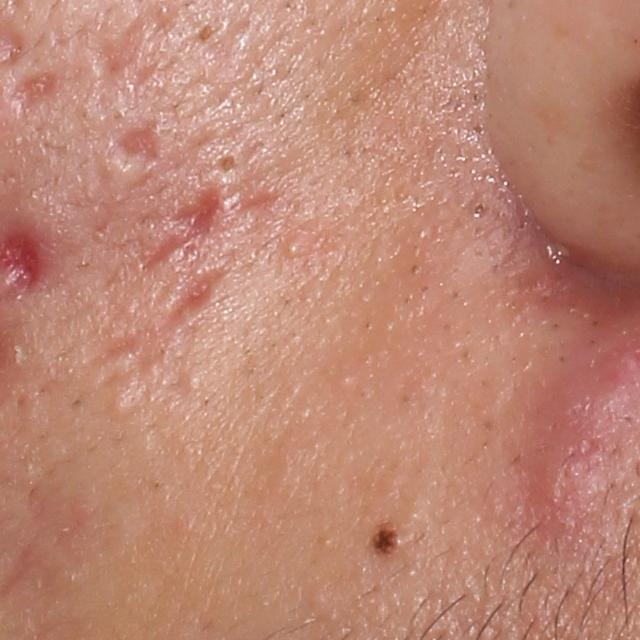atrophic_scar: (167, 260, 231, 324), (97, 20, 146, 83), (6, 72, 65, 119), (113, 124, 167, 173), (168, 188, 221, 234), (141, 231, 199, 268), (83, 334, 146, 368), (0, 29, 25, 65)
comedo: (217, 153, 248, 175), (104, 396, 131, 420), (181, 374, 203, 396), (283, 241, 305, 256), (469, 199, 487, 217)
nevus: (366, 522, 410, 558)
